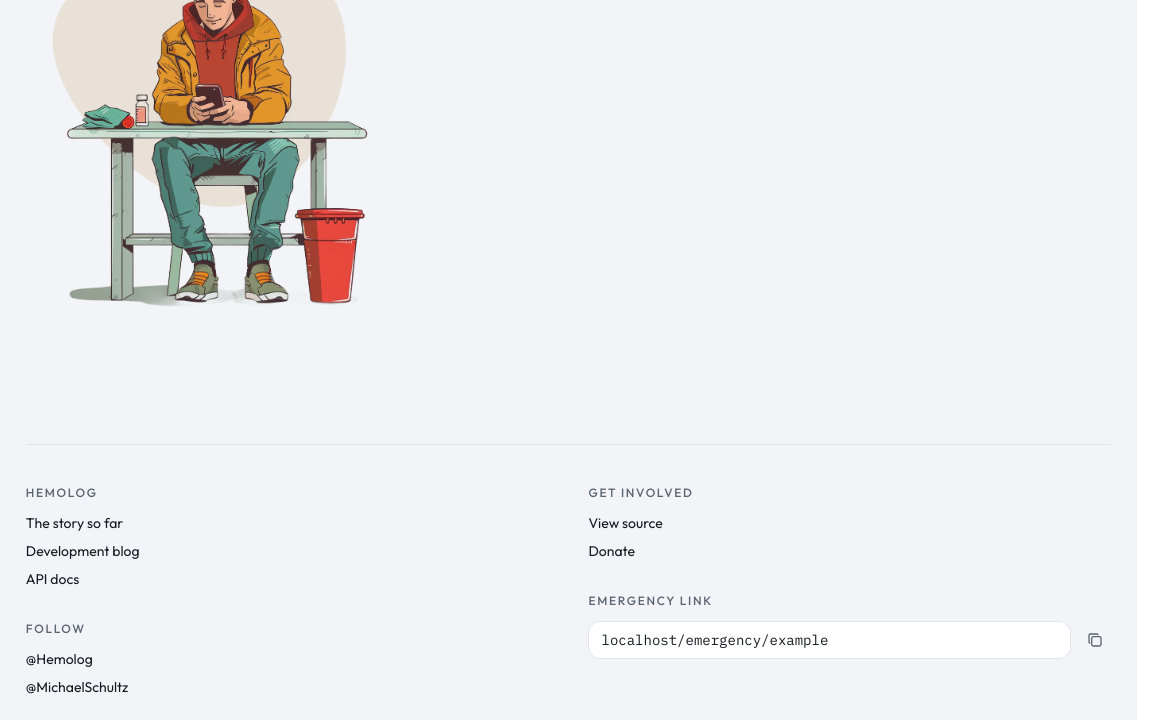
Test: Pages render › can copy emergency link from landing
The width and height of the screenshot is (1152, 720).
(page scrolled)
Expected: the text "/emergency/" is shown, x1=601 y1=631 x2=828 y2=649
Click the button titled "Copy link".
click(1095, 640)  # box x1=1079 y1=624 x2=1111 y2=656
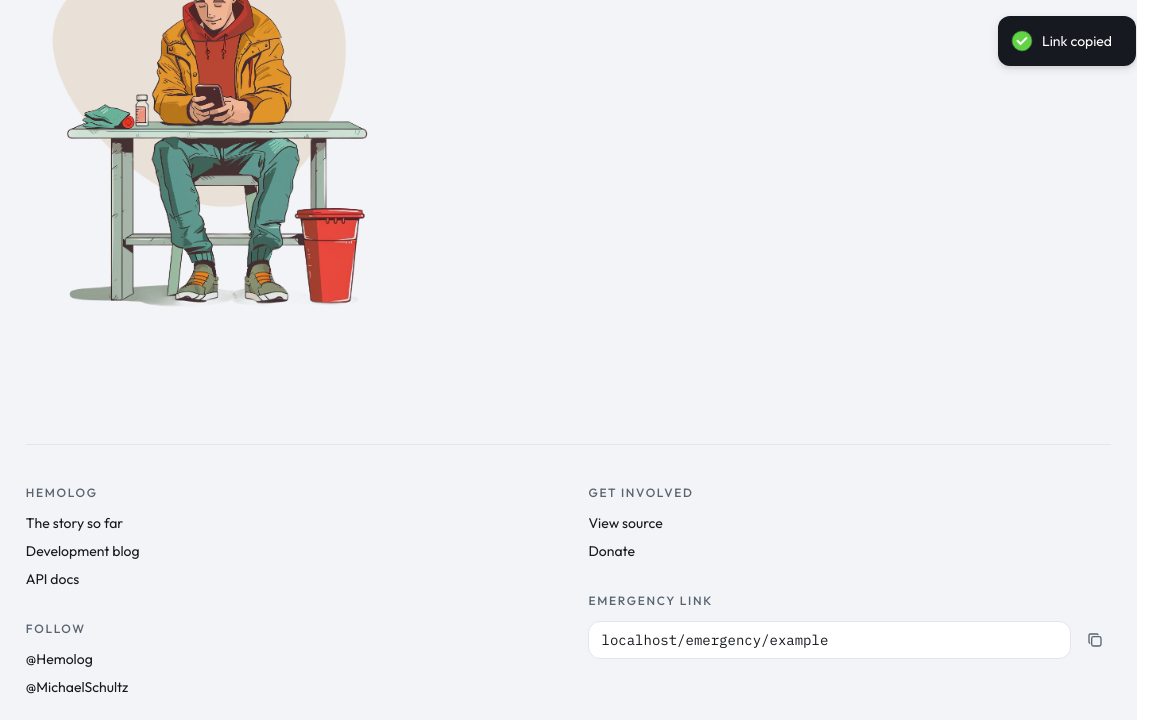
Now the text "Link copied" is shown, box x1=1042 y1=32 x2=1112 y2=50
